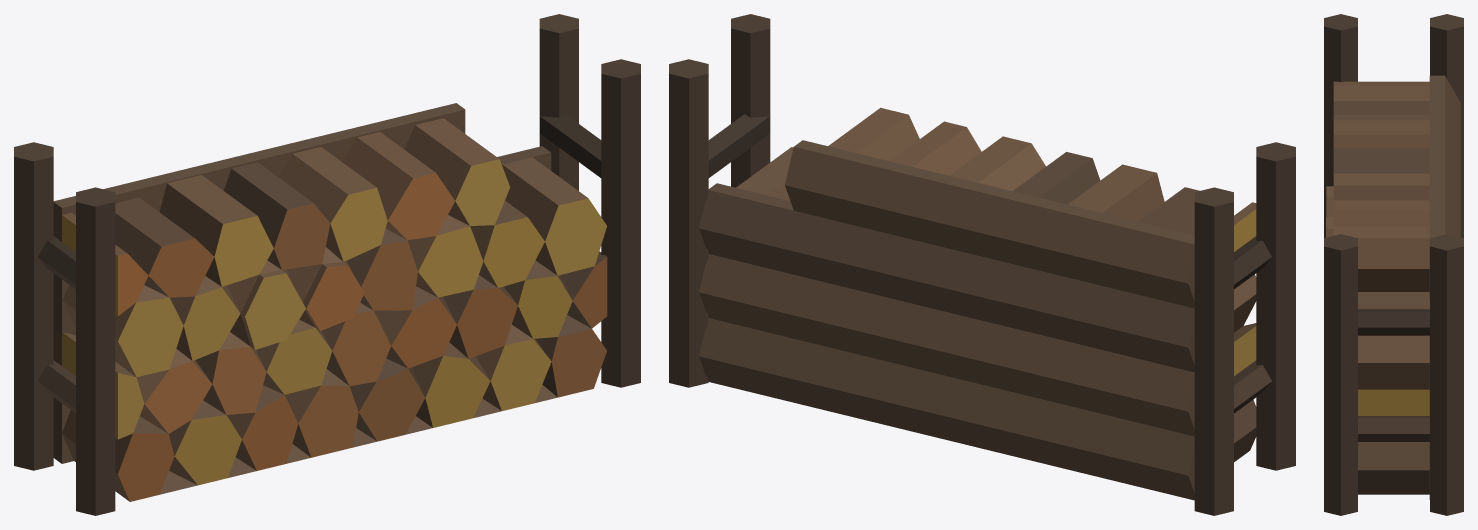
File: cordwood-pile-b5229b.glb
3 views of the same model, side by side, from view 1: azimuth 30°, elevation 25°; view 2: azimuth 150°, elevation 25°; view 3: azimuth 270°, elevation 25° (orthographic). The views are drawn at different scales.
Parts seen in each view (by area): view 1: cordwood-pile-body; view 2: cordwood-pile-body; view 3: cordwood-pile-body.
Boxes of the visible parts, x1,y1,x2,y2 form: cordwood-pile-body: [14, 14, 640, 515]; cordwood-pile-body: [669, 14, 1295, 515]; cordwood-pile-body: [1324, 14, 1463, 515].
Size of the model in its own units: 2 by 1.05 by 0.5.
